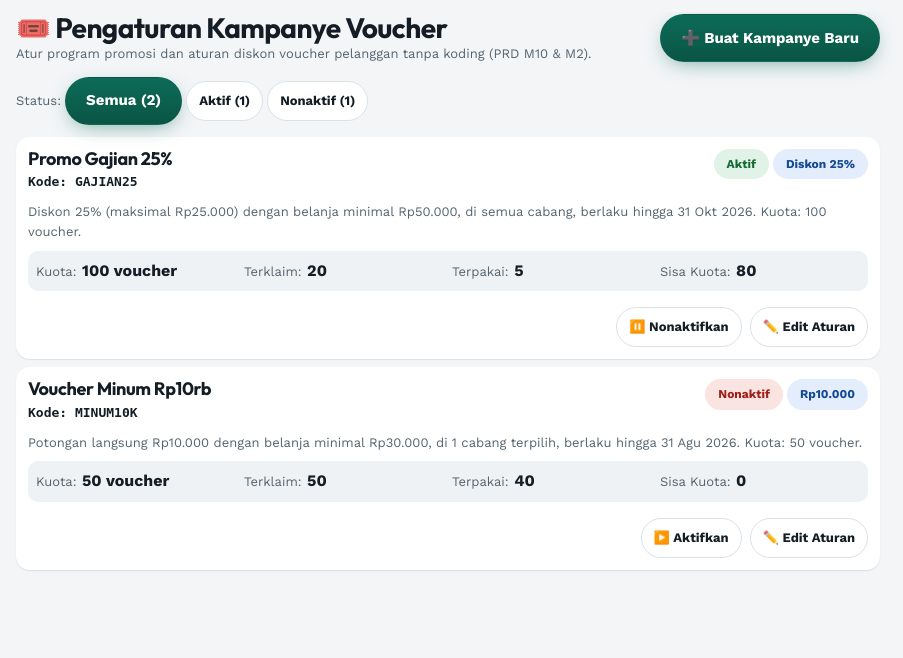
Test case: Komponen Kampanye Pengaturan Admin (T8-11) › mengubah status aktif kampanye saat tombol nonaktifkan/aktifkan diklik
Click the button with aria-label "Ubah status GAJIAN25": (679, 327) top-left (616, 307), bottom-right (742, 347)
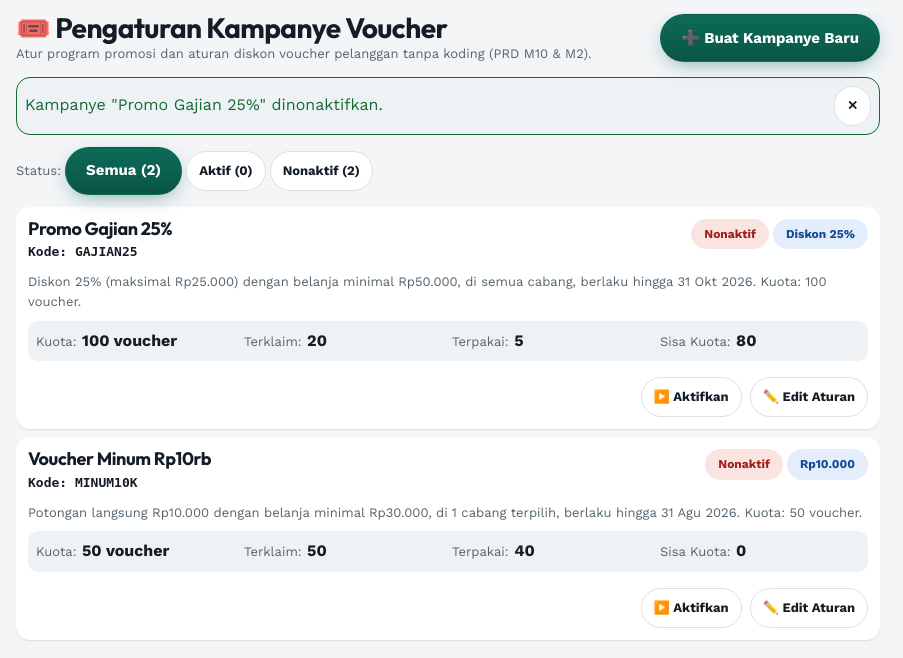
expect the element with test id "notif-sukses" shows "dinonaktifkan": met, box top-left (25, 95), bottom-right (383, 114)
